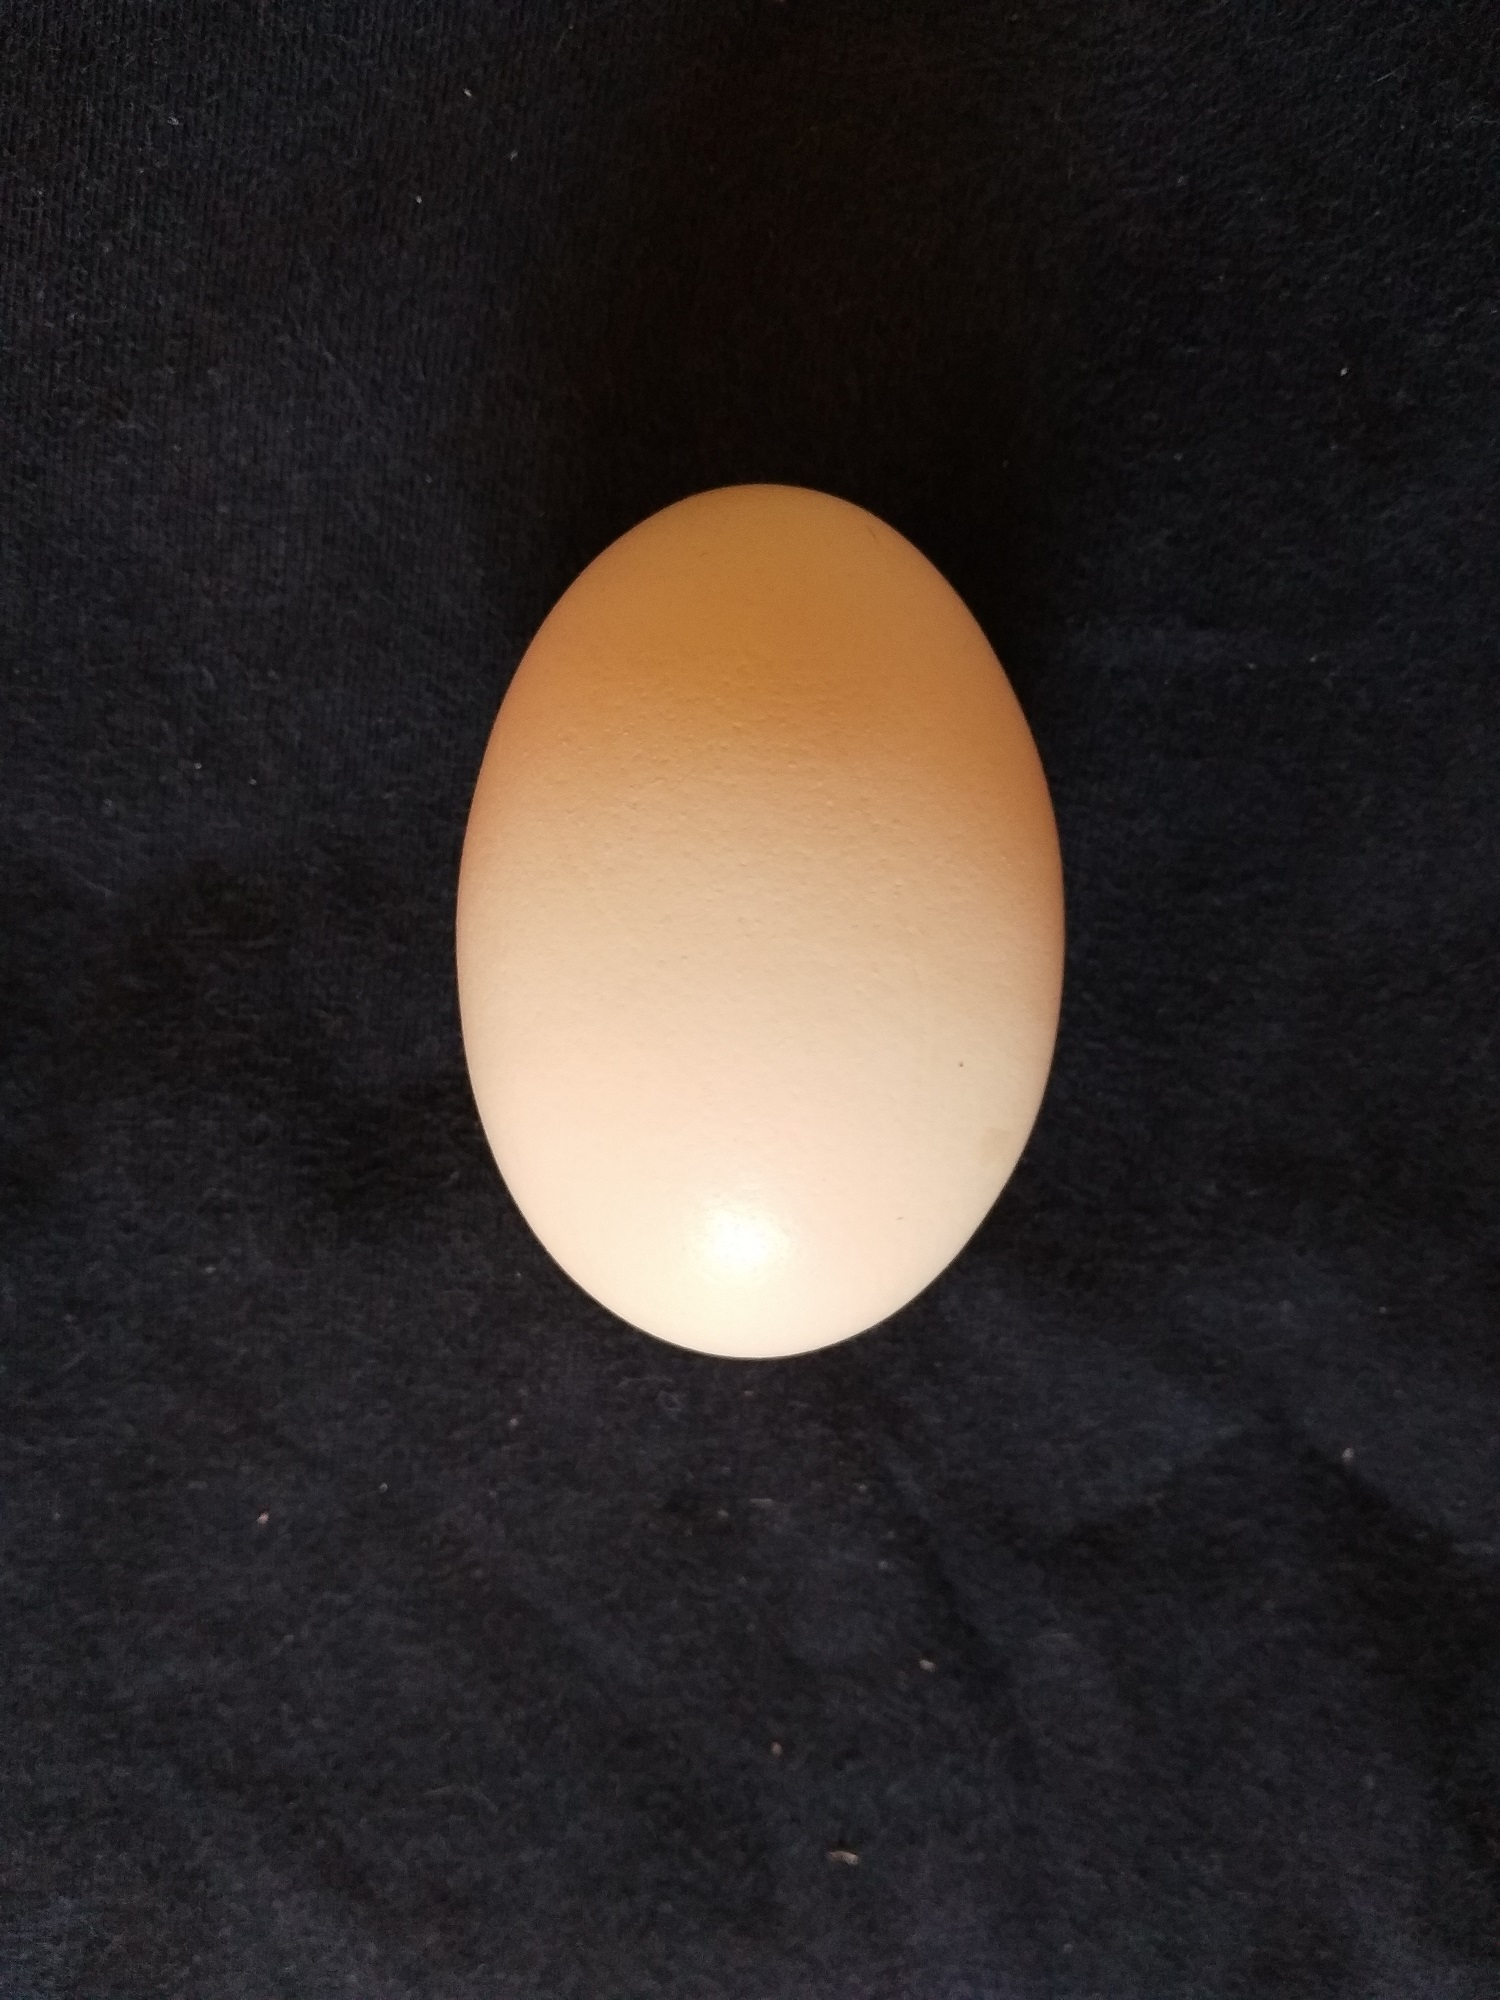Male: (447, 474, 1071, 1369)
